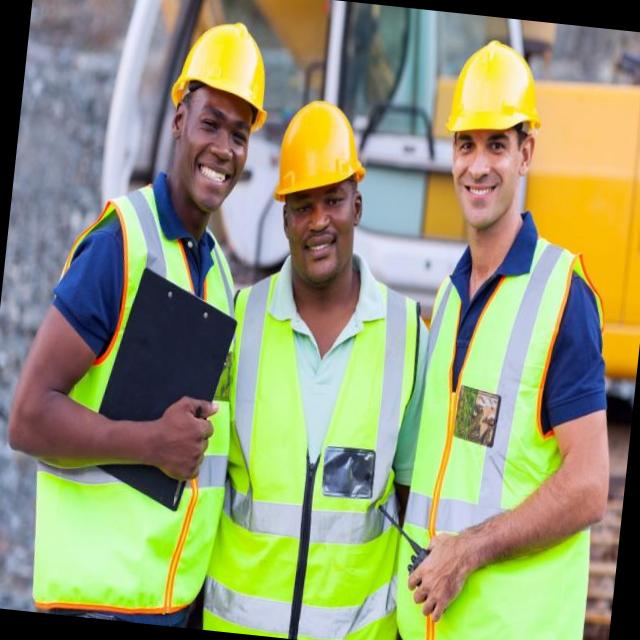Helmet: (433, 32, 552, 148), (266, 94, 380, 210), (168, 14, 278, 124)
Vest: (22, 166, 254, 617), (392, 221, 623, 640), (203, 261, 438, 640)
